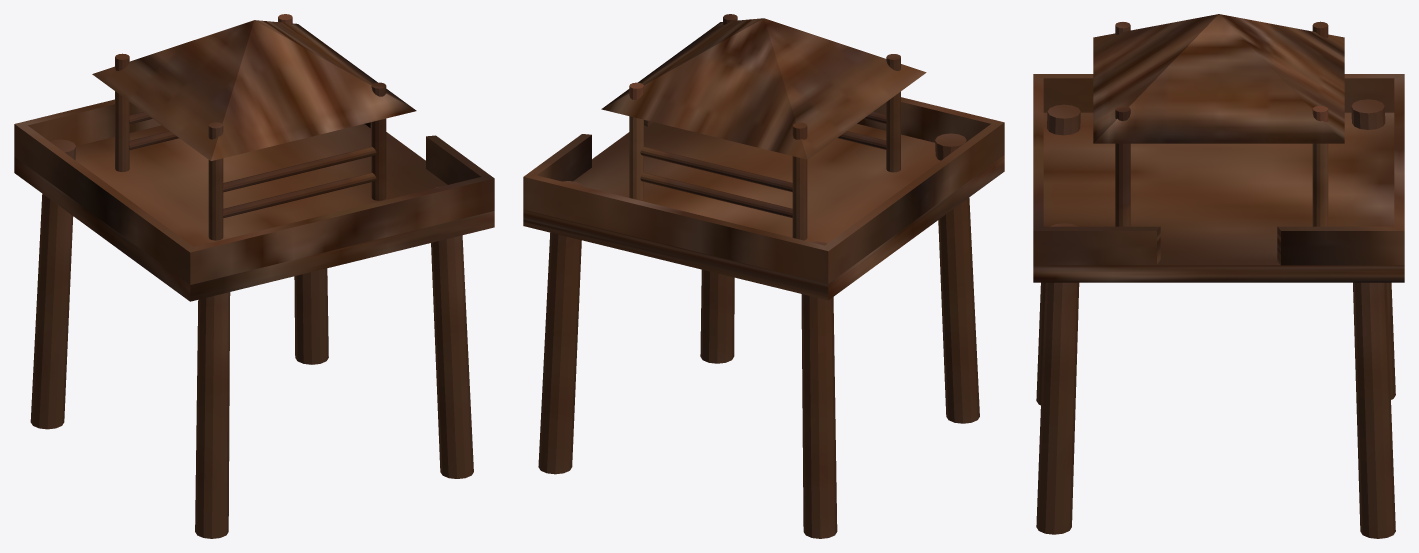
Rendered from Tower.obj.
The picture shows the model from 3 angles, left to right: view 1: azimuth 30°, elevation 25°; view 2: azimuth 150°, elevation 25°; view 3: azimuth 270°, elevation 25°; orthographic projection. The views are drawn at different scales.
Visible parts, largest first — view 1: Tower pCube1, Tower pPyramid1, Tower pCylinder9, Tower pCylinder10, Tower pCylinder12, pCylinder11 Tower, Tower pCylinder5, Tower pCylinder6, Tower pCylinder2, Tower pCylinder1, Tower pCylinder3; view 2: Tower pCube1, Tower pPyramid1, Tower pCylinder12, pCylinder11 Tower, Tower pCylinder9, Tower pCylinder10, Tower pCylinder3, Tower pCylinder7, Tower pCylinder8, Tower pCylinder4, Tower pCylinder2; view 3: Tower pCube1, Tower pPyramid1, pCylinder11 Tower, Tower pCylinder10, Tower pCylinder4, Tower pCylinder12, Tower pCylinder9, Tower pCylinder1.
Boxes of the visible parts, box(x1,y1,x2,y2) form: Tower pCube1: box(14, 99, 494, 301); Tower pPyramid1: box(92, 20, 416, 160); Tower pCylinder9: box(195, 243, 230, 538); Tower pCylinder10: box(431, 186, 473, 478); Tower pCylinder12: box(30, 139, 76, 429); pCylinder11 Tower: box(294, 268, 328, 364); Tower pCylinder5: box(223, 147, 376, 192); Tower pCylinder6: box(223, 172, 376, 217); Tower pCylinder2: box(208, 122, 223, 240); Tower pCylinder1: box(371, 82, 386, 200); Tower pCylinder3: box(115, 53, 129, 171); Tower pCube1: box(523, 97, 1004, 300); Tower pPyramid1: box(601, 18, 926, 159); Tower pCylinder12: box(801, 241, 837, 538); pCylinder11 Tower: box(538, 181, 583, 474); Tower pCylinder9: box(935, 133, 979, 423); Tower pCylinder10: box(700, 269, 734, 363); Tower pCylinder3: box(792, 122, 807, 240); Tower pCylinder7: box(640, 172, 792, 217); Tower pCylinder8: box(640, 146, 792, 192); Tower pCylinder4: box(629, 82, 643, 200); Tower pCylinder2: box(886, 54, 900, 172); Tower pCube1: box(1033, 74, 1404, 282); Tower pPyramid1: box(1093, 14, 1344, 143); pCylinder11 Tower: box(1353, 282, 1395, 538); Tower pCylinder10: box(1036, 223, 1079, 534); Tower pCylinder4: box(1312, 105, 1328, 226); Tower pCylinder12: box(1351, 99, 1395, 399); Tower pCylinder9: box(1036, 104, 1080, 405); Tower pCylinder1: box(1115, 105, 1130, 226).
Size of the model in its own units: 21.23 by 28.35 by 21.23.
